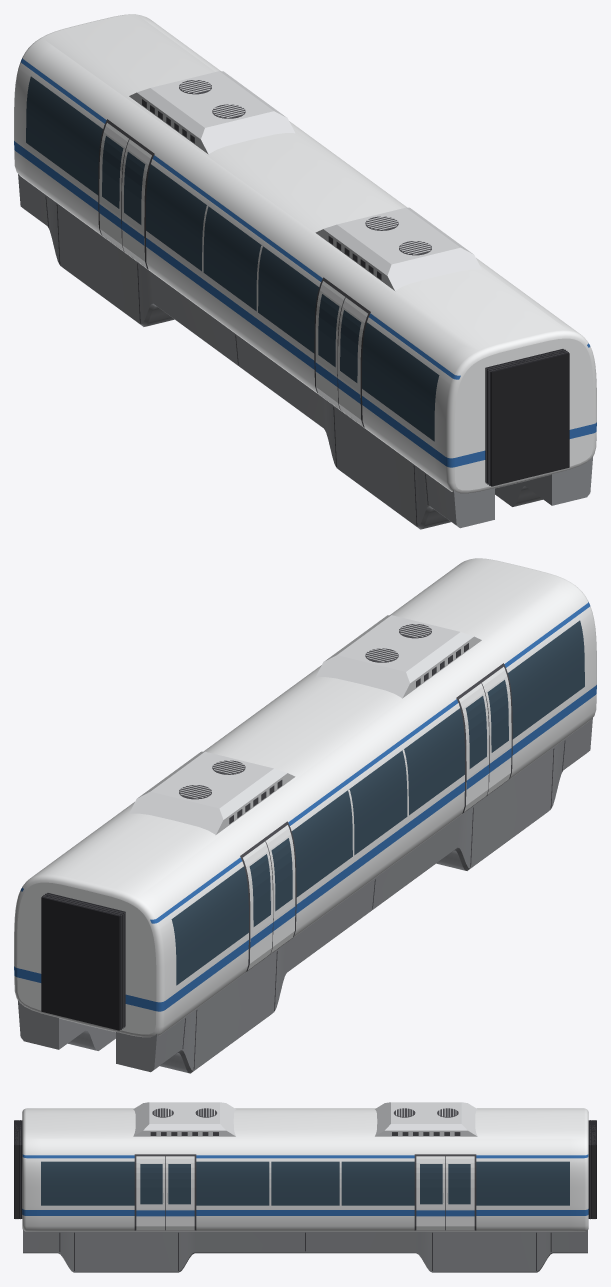
The model's file is middle_close.fbx.
3 renders of one model, top to bottom at view 1: azimuth 30°, elevation 25°; view 2: azimuth 150°, elevation 25°; view 3: azimuth 270°, elevation 25°, orthographic. The views are drawn at different scales.
Parts seen in each view (by area): view 1: 309_close; view 2: 309_close; view 3: 309_close.
Boxes of the visible parts, x1,y1,x2,y2 form: 309_close: (14, 14, 596, 529); 309_close: (14, 558, 596, 1073); 309_close: (14, 1102, 596, 1272).
Size of the model in its own units: 2.73 by 3.71 by 14.
